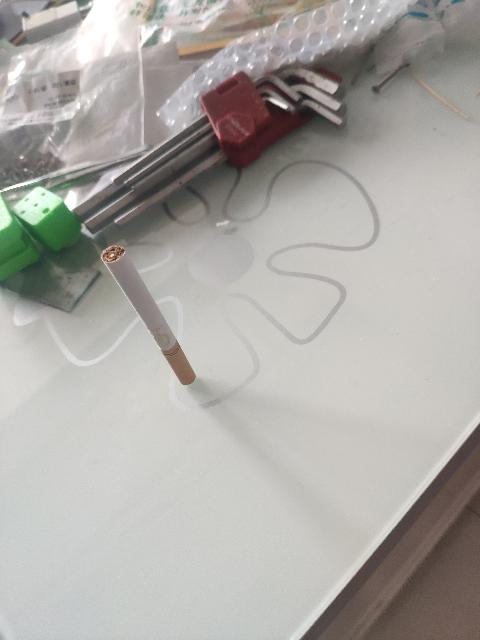Cigarette: (103, 244, 198, 386)
